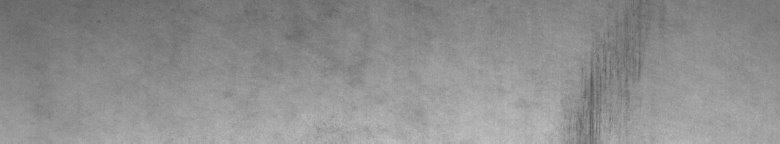ka: (572, 15, 642, 136)
